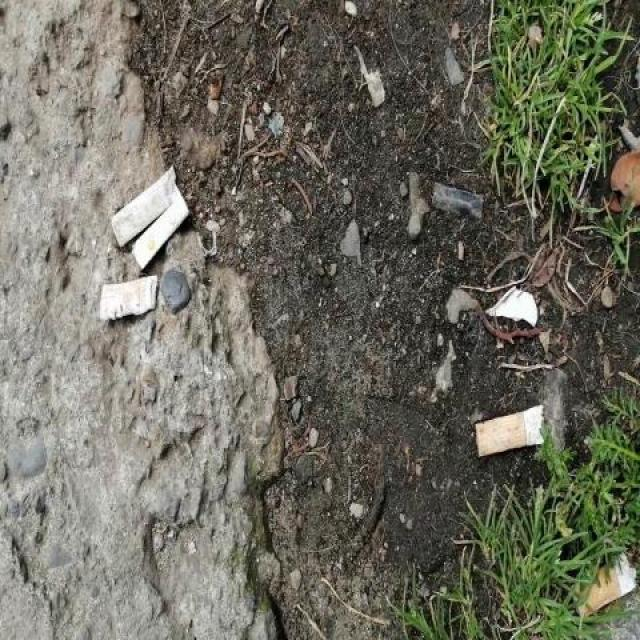non-organic waste: (108, 160, 180, 249), (569, 542, 640, 622), (129, 188, 195, 272), (471, 397, 548, 462), (93, 272, 163, 325)
